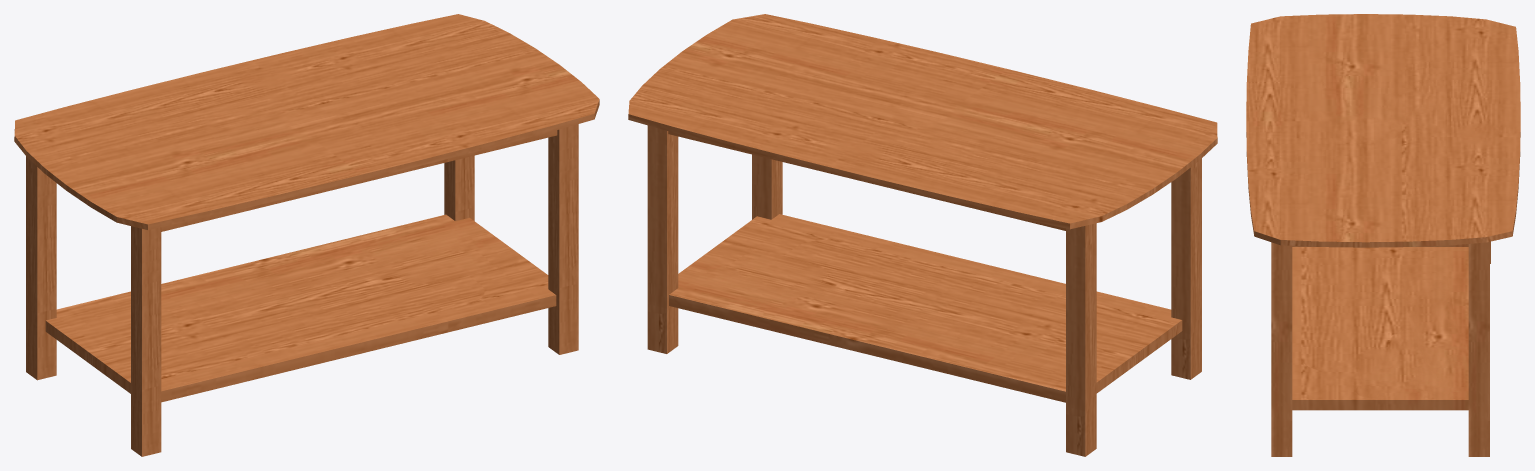
Rendered from EndTabel_XO.fbx.
3 views of the same model, side by side, from view 1: azimuth 30°, elevation 25°; view 2: azimuth 150°, elevation 25°; view 3: azimuth 270°, elevation 25° (orthographic). The views are drawn at different scales.
Parts seen in each view (by area): view 1: polySurface1, polySurface3, polySurface6, polySurface5, polySurface7, polySurface2, polySurface4; view 2: polySurface1, polySurface3, polySurface7, polySurface2, polySurface6, polySurface5, polySurface4; view 3: polySurface1, polySurface3, polySurface2, polySurface5.
Part boxes in pixels (x1,y1,x2,y2): polySurface1: (14, 14, 599, 229); polySurface3: (45, 214, 556, 402); polySurface6: (131, 226, 161, 456); polySurface5: (548, 124, 578, 354); polySurface7: (26, 156, 56, 380); polySurface2: (444, 155, 474, 220); polySurface4: (161, 130, 557, 231); polySurface1: (628, 14, 1217, 229); polySurface3: (669, 214, 1182, 402); polySurface7: (1066, 223, 1096, 456); polySurface2: (647, 125, 678, 353); polySurface6: (1171, 158, 1201, 379); polySurface5: (752, 154, 782, 219); polySurface4: (668, 131, 1065, 230); polySurface1: (1246, 14, 1520, 247); polySurface3: (1292, 247, 1468, 410); polySurface2: (1468, 242, 1489, 456); polySurface5: (1271, 242, 1292, 456).
Bounding box in the file's own units: 1237 × 579 × 629.
Materials: 1 (1 with a texture image).
